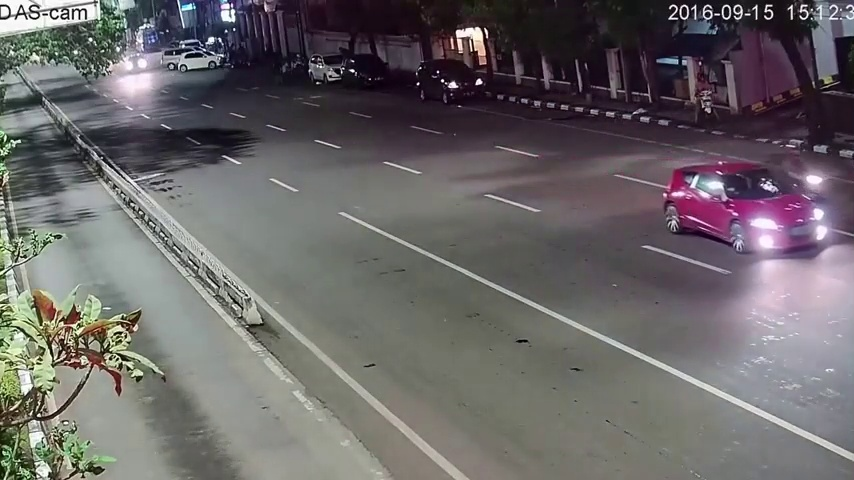car: (669, 163, 828, 256), (415, 60, 482, 108), (341, 52, 391, 90), (309, 53, 347, 87), (179, 51, 223, 71), (125, 55, 150, 75)
motorbike: (693, 73, 716, 125)
